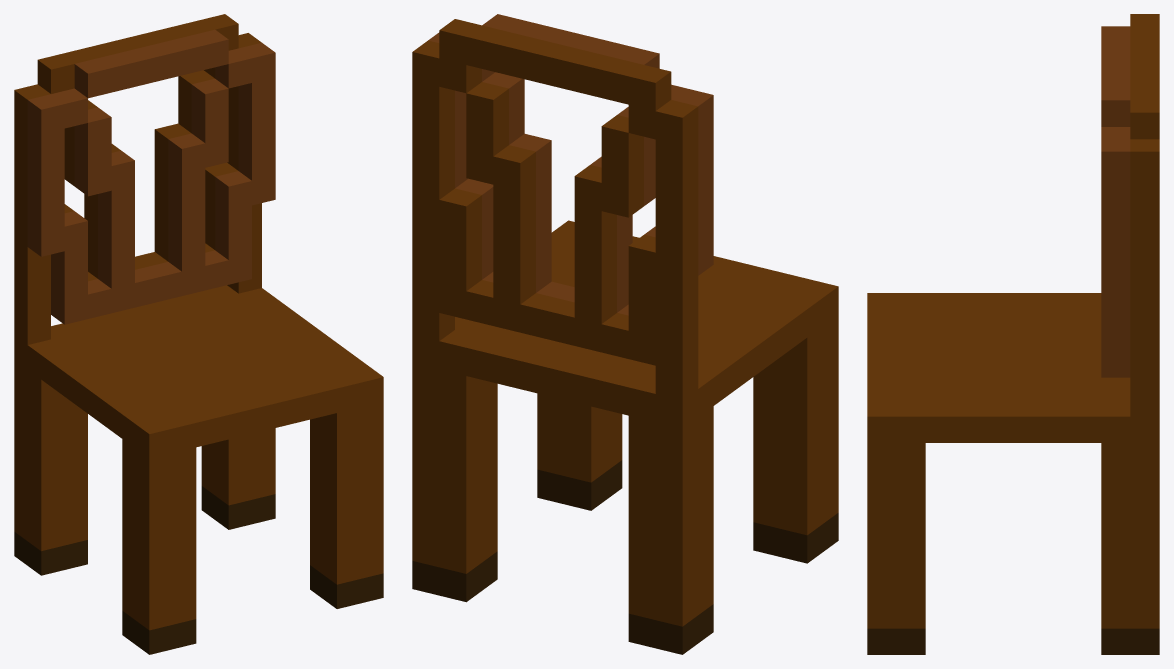
File: Chaise2(marron).obj
3 renders of one model, left to right at view 1: azimuth 30°, elevation 25°; view 2: azimuth 150°, elevation 25°; view 3: azimuth 270°, elevation 25°, orthographic. The views are drawn at different scales.
Bounding box in the file's own units: 1 × 2 × 1.
Materials: 1 (1 with a texture image).
